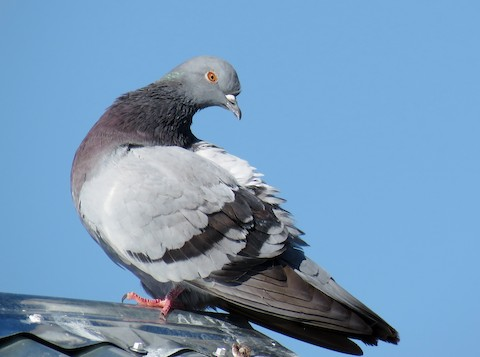pigeon: (68, 50, 404, 353)
